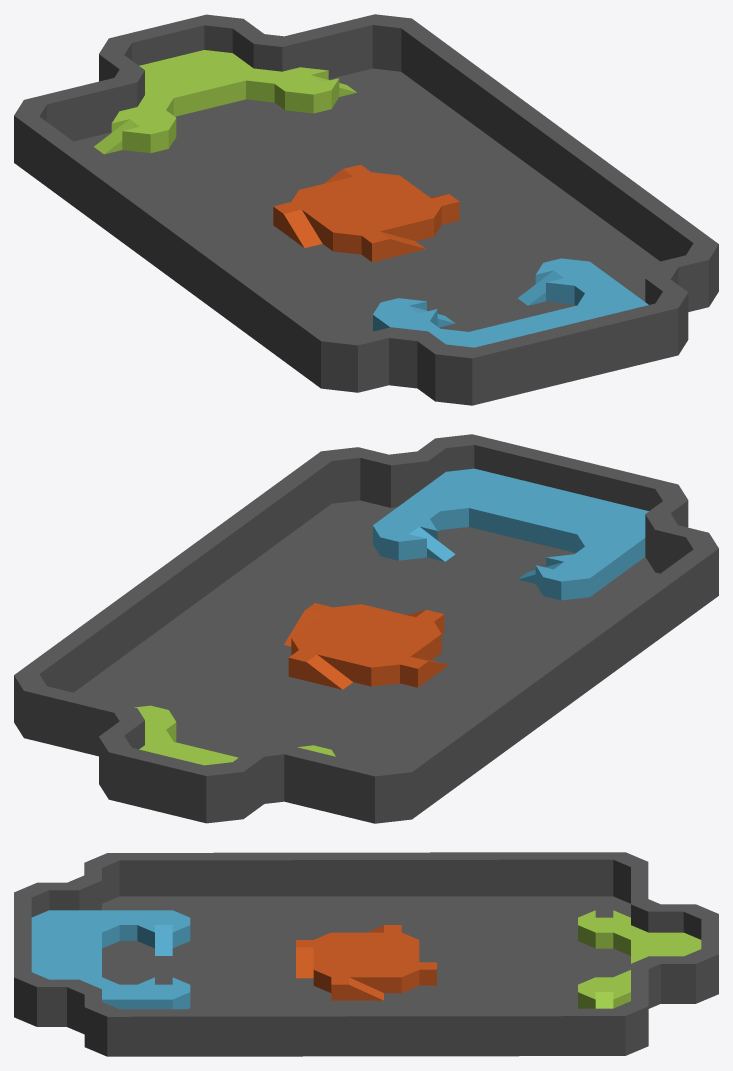
The model's file is map1.fbx.
3 views of the same model, one above another, from view 1: azimuth 30°, elevation 25°; view 2: azimuth 150°, elevation 25°; view 3: azimuth 270°, elevation 25° (orthographic). The views are drawn at different scales.
Visible parts, largest first — view 1: Wall, Goal, Jail, Hideout; view 2: Wall, Hideout, Jail, Goal; view 3: Wall, Hideout, Jail, Goal.
Part boxes in pixels (left/top/right/bottom): Wall: left=14, top=14, right=718, bottom=405; Goal: left=94, top=50, right=356, bottom=154; Jail: left=273, top=164, right=459, bottom=262; Hideout: left=373, top=258, right=648, bottom=347; Wall: left=14, top=434, right=718, bottom=823; Hideout: left=373, top=468, right=648, bottom=600; Jail: left=284, top=603, right=448, bottom=689; Goal: left=134, top=705, right=335, bottom=765; Wall: left=14, top=852, right=718, bottom=1056; Hideout: left=31, top=910, right=190, bottom=1009; Jail: left=296, top=925, right=436, bottom=1000; Goal: left=578, top=910, right=701, bottom=1008.
Bounding box in the file's own units: 4000 × 2200 × 255.
